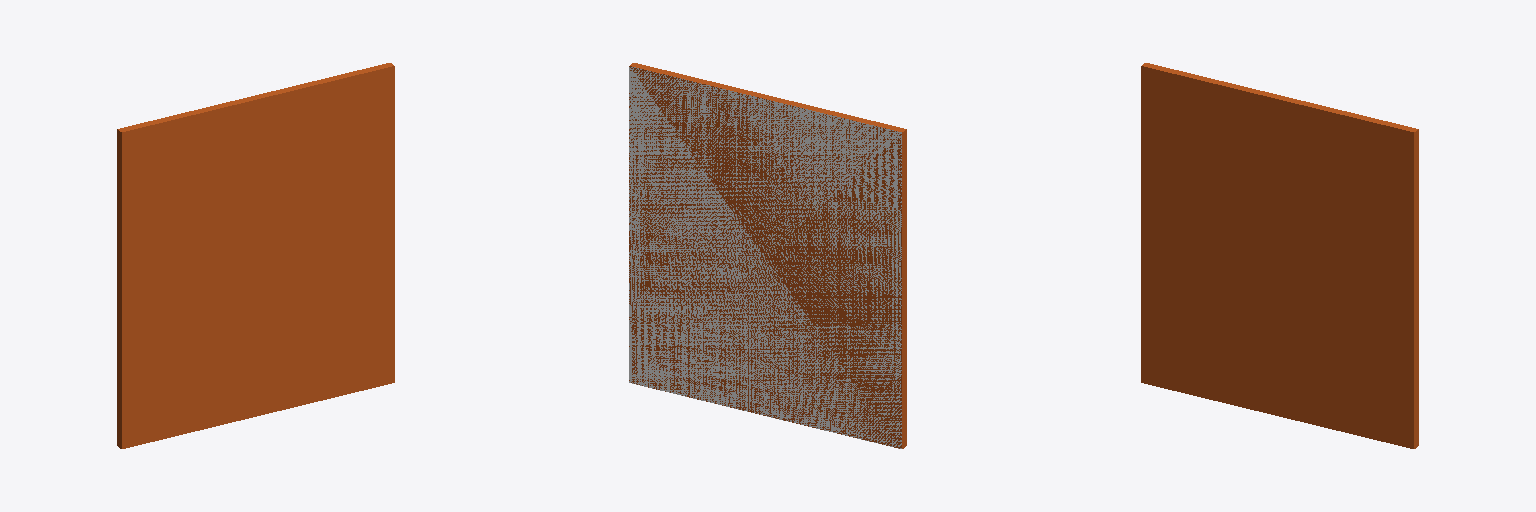
The model's file is Painting-012.obj.
3 renders of one model, left to right at view 1: azimuth 30°, elevation 25°; view 2: azimuth 150°, elevation 25°; view 3: azimuth 330°, elevation 25°, orthographic.
Visible parts, largest first — view 1: Painting_012; view 2: Painting_012; view 3: Painting_012.
Part boxes in pixels (left/top/right/bottom): Painting_012: left=117, top=63, right=394, bottom=448; Painting_012: left=629, top=63, right=906, bottom=448; Painting_012: left=1141, top=63, right=1418, bottom=448.
Size of the model in its own units: 1.37 by 1.52 by 0.04.